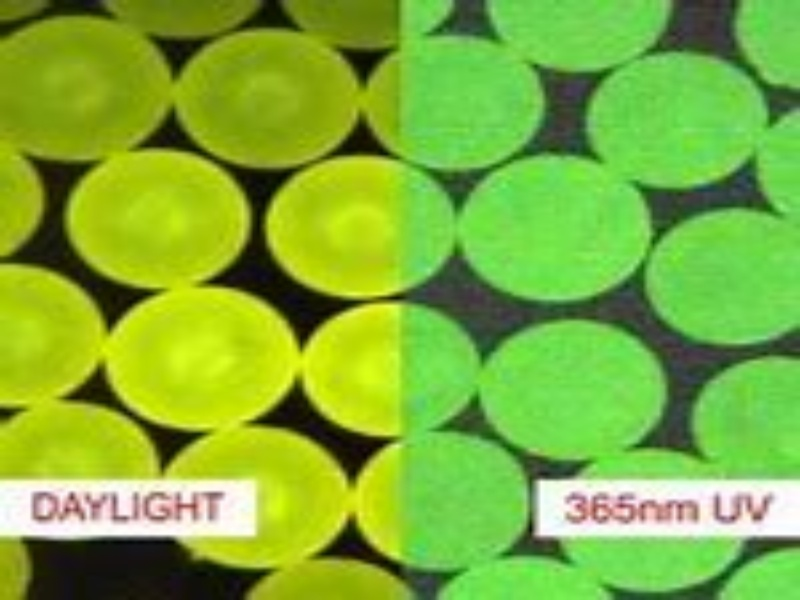bead: (100, 283, 311, 436), (456, 155, 659, 309), (480, 315, 669, 473), (176, 24, 367, 173), (259, 150, 456, 294), (164, 425, 357, 570), (564, 446, 749, 597), (1, 16, 177, 167), (67, 147, 253, 289), (354, 429, 534, 574), (296, 296, 481, 436), (365, 32, 552, 170), (584, 52, 769, 189), (1, 402, 163, 551), (646, 202, 800, 349), (1, 261, 109, 411), (692, 351, 800, 489), (487, 1, 674, 75)
